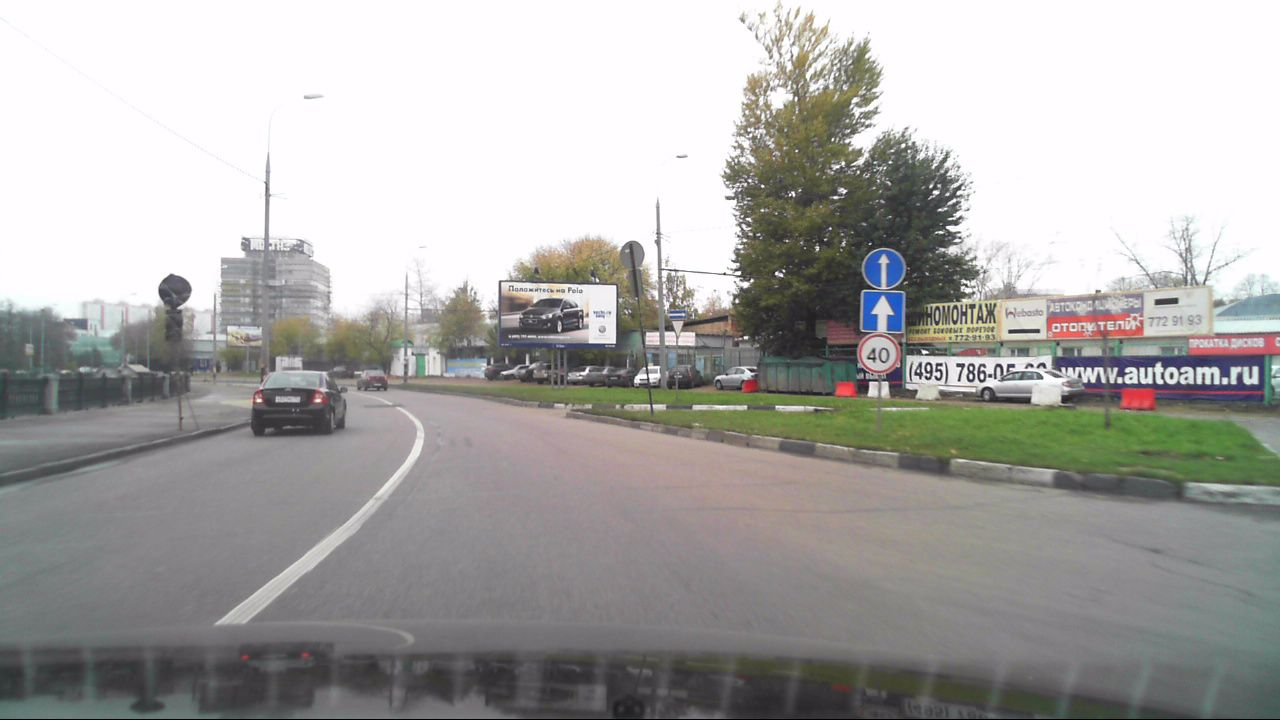speed_warning_40: (857, 333, 901, 374)
